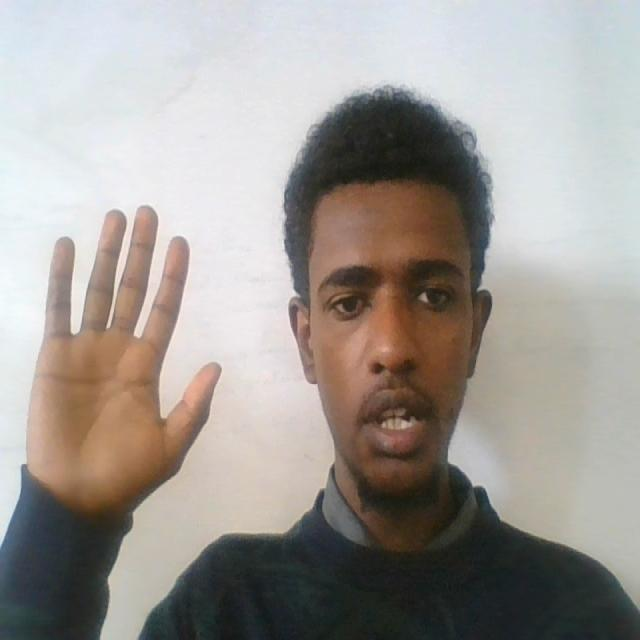hello: (28, 195, 224, 527)
